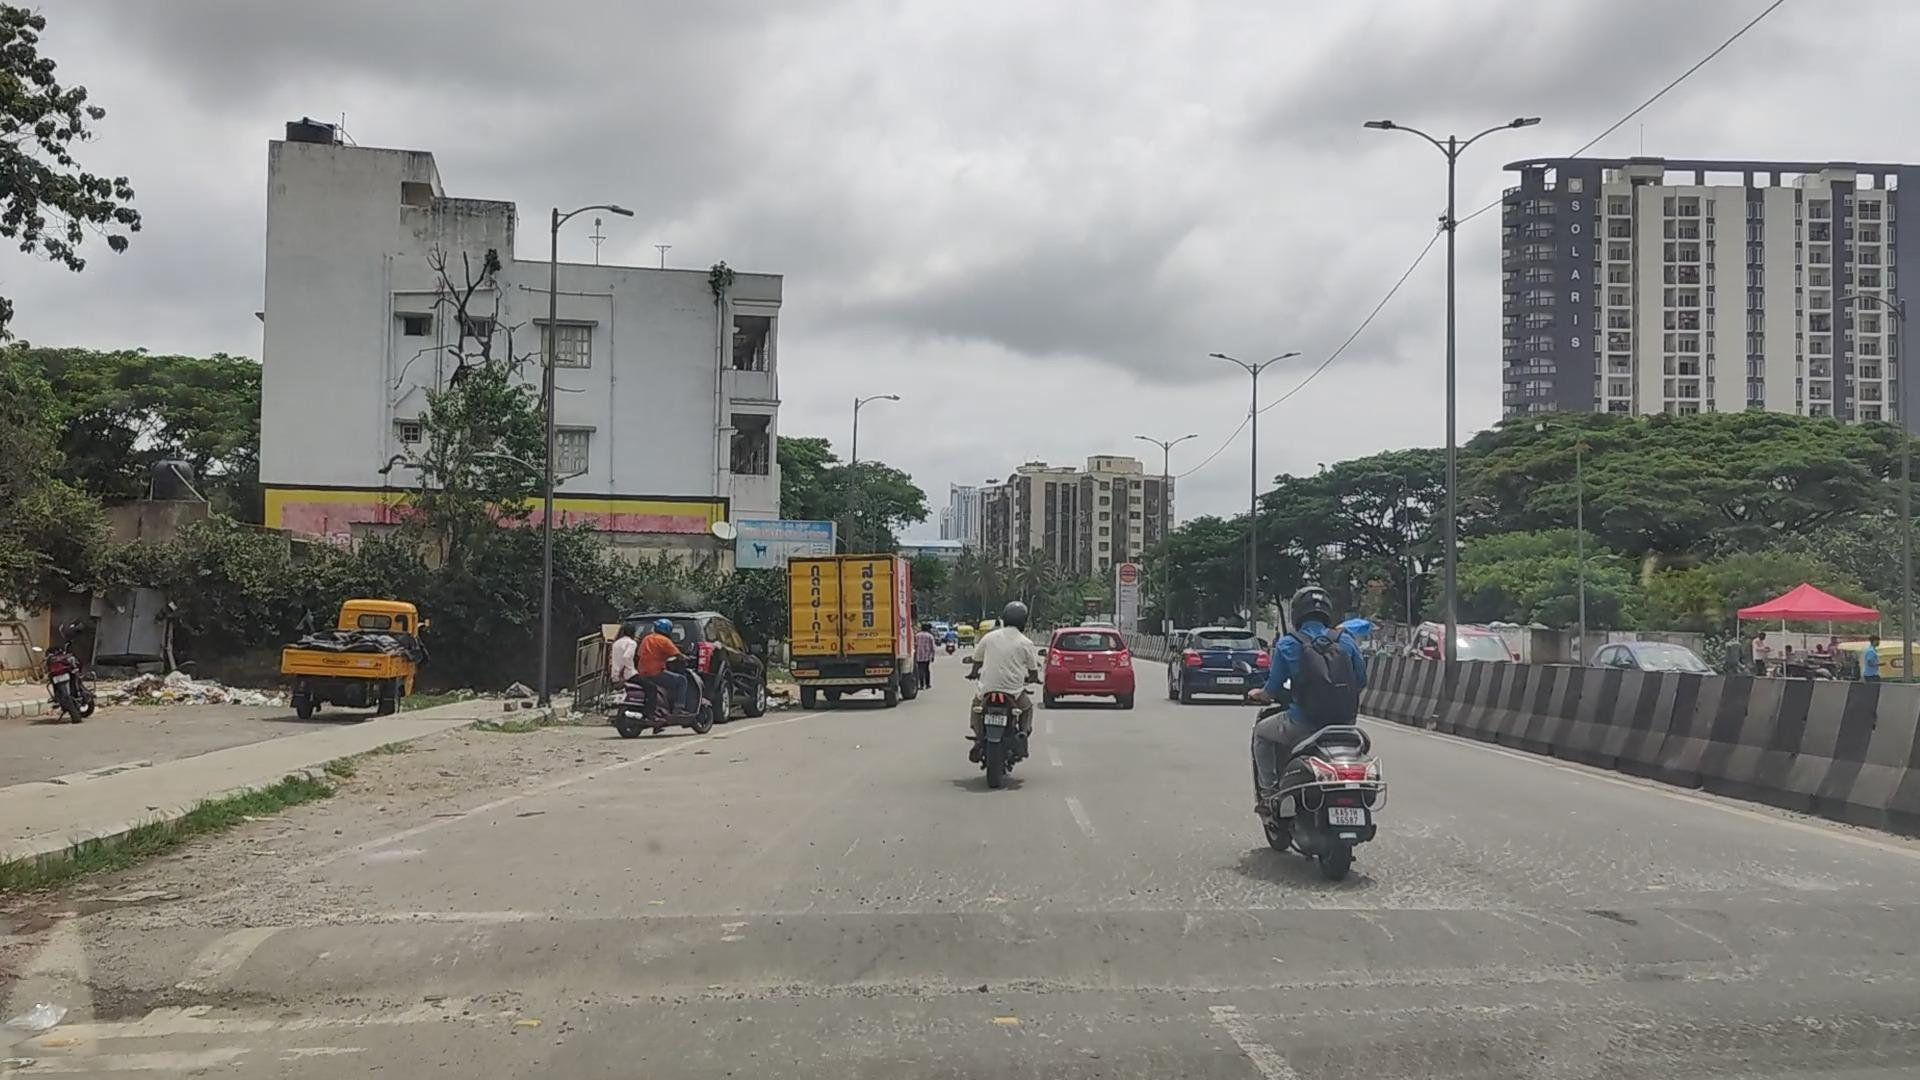HMV: (787, 558, 913, 698)
LMV: (1255, 587, 1386, 869), (973, 605, 1031, 770), (1050, 636, 1131, 707)
RoadDamages: (0, 951, 289, 1048)
SpeedBump: (129, 909, 1824, 1005)
